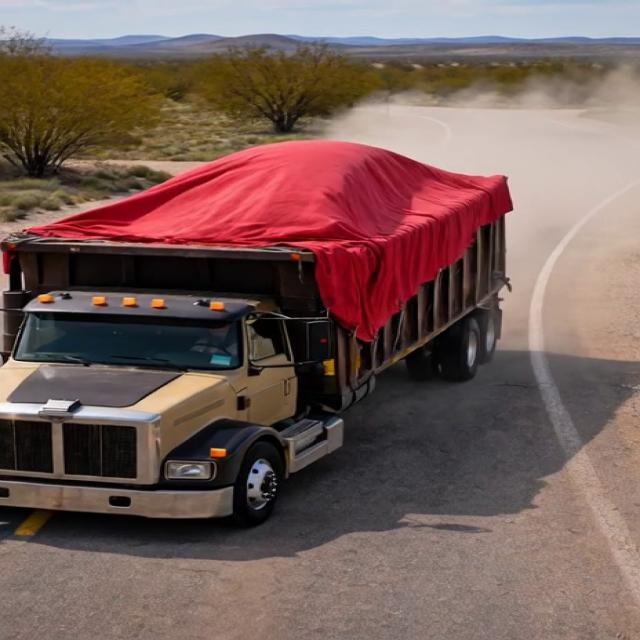Box: (10, 141, 533, 282)
Truck: (3, 107, 569, 520)
